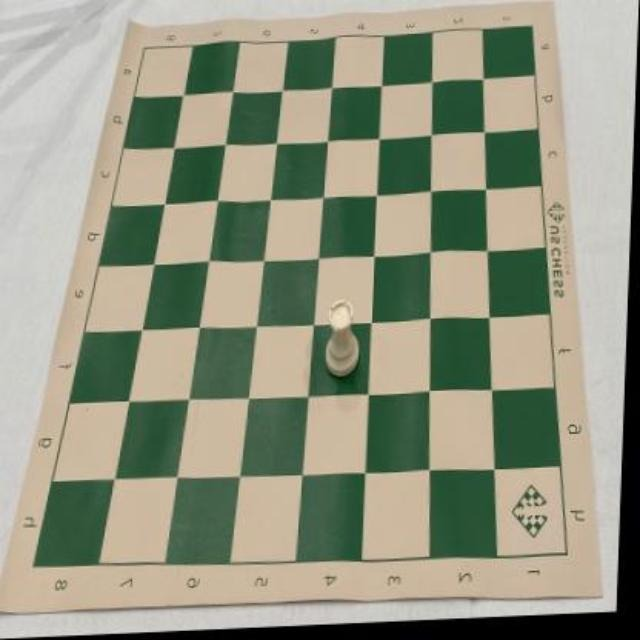white-rook: (326, 302, 364, 382)
